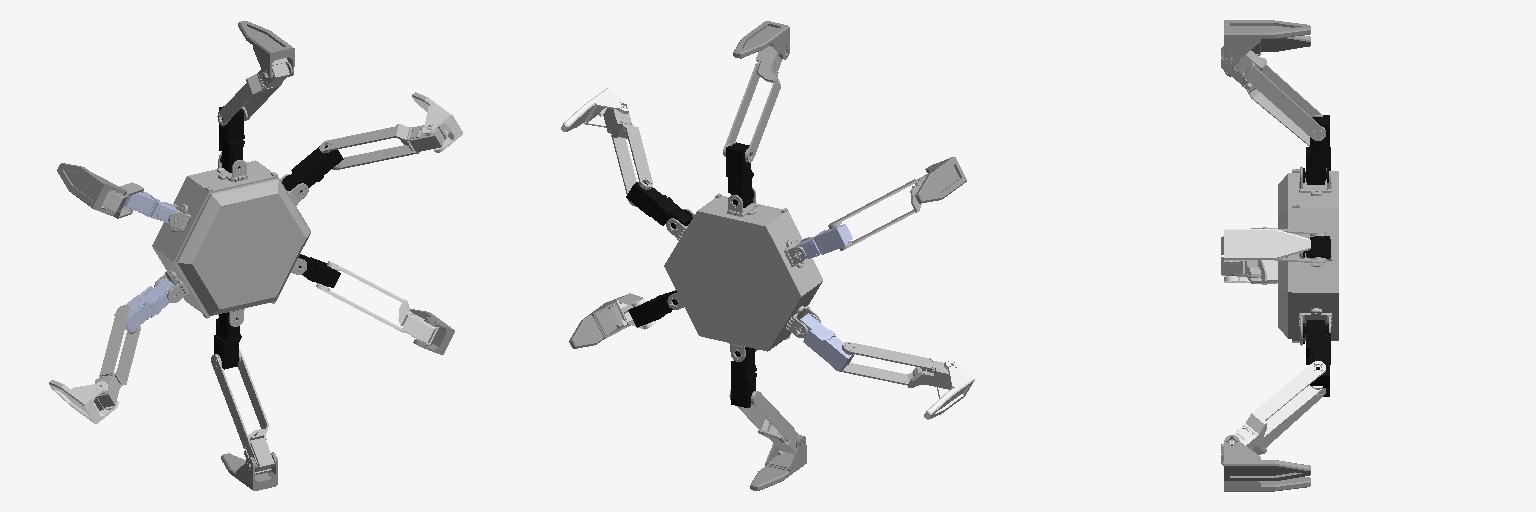
--- Render facts (derived) ---
The picture shows the robot from 3 angles, left to right: view 1: azimuth 30°, elevation 25°; view 2: azimuth 150°, elevation 25°; view 3: azimuth 270°, elevation 25°; orthographic projection.
Robot: hexapod_description — 19 links, 18 joints (18 revolute); root link base_link; default pose: all joints at 0.
Links seen in each view (by area): view 1: base_link, 5B_link, 1B_link, 2B_link, 4B_link, 3C_link, 6B_link, 4C_link, 2C_link, 5A_link, 2A_link, 1C_link (+7 smaller); view 2: base_link, 2B_link, 4B_link, 5B_link, 1B_link, 1C_link, 6C_link, 3C_link, 2A_link, 5A_link, 4C_link, 4A_link (+7 smaller); view 3: base_link, 6B_link, 4B_link, 5C_link, 6C_link, 4C_link, 4A_link, 6A_link, 3B_link, 1C_link, 2B_link, 1B_link (+1 smaller).
Link boxes in pixels (bbox=[...]): base_link: bbox=[152, 152, 310, 326]; 5B_link: bbox=[319, 124, 447, 169]; 1B_link: bbox=[211, 350, 274, 474]; 2B_link: bbox=[94, 305, 140, 410]; 4B_link: bbox=[217, 58, 289, 125]; 3C_link: bbox=[57, 163, 126, 216]; 6B_link: bbox=[316, 261, 439, 344]; 4C_link: bbox=[238, 21, 294, 81]; 2C_link: bbox=[49, 380, 118, 423]; 5A_link: bbox=[282, 145, 343, 192]; 2A_link: bbox=[114, 278, 175, 332]; 1C_link: bbox=[221, 452, 277, 490]; base_link: bbox=[664, 187, 822, 361]; 2B_link: bbox=[833, 342, 950, 389]; 4B_link: bbox=[723, 46, 785, 162]; 5B_link: bbox=[603, 106, 652, 206]; 1B_link: bbox=[729, 390, 799, 453]; 1C_link: bbox=[750, 435, 806, 490]; 6C_link: bbox=[569, 295, 630, 348]; 3C_link: bbox=[915, 157, 966, 203]; 2A_link: bbox=[797, 313, 854, 371]; 5A_link: bbox=[626, 182, 692, 228]; 4C_link: bbox=[733, 21, 789, 59]; 4A_link: bbox=[726, 142, 754, 207]; base_link: bbox=[1278, 166, 1338, 345]; 6B_link: bbox=[1221, 361, 1325, 455]; 4B_link: bbox=[1221, 46, 1325, 140]; 5C_link: bbox=[1224, 229, 1310, 261]; 6C_link: bbox=[1224, 435, 1310, 480]; 4C_link: bbox=[1224, 20, 1310, 65]; 4A_link: bbox=[1303, 115, 1330, 184]; 6A_link: bbox=[1303, 320, 1330, 387]; 3B_link: bbox=[1221, 58, 1309, 146]; 1C_link: bbox=[1224, 477, 1310, 491]; 2B_link: bbox=[1221, 257, 1277, 284]; 1B_link: bbox=[1221, 388, 1325, 465].
Bounding box of the posed robot: 0.6613 × 0.1652 × 0.725 m (x, y, z).
Meshes: 19 distinct files referenced, 19 mesh visuals loaded (19 binary STL).

robot.urdf — hexapod_description:
<?xml version="1.0" encoding="utf-8"?>
<!-- This URDF was automatically created by SolidWorks to URDF Exporter! Originally created by Stephen Brawner ([email redacted]) 
     Commit Version: 1.6.0-4-g7f85cfe  Build Version: 1.6.7995.38578
     For more information, please see http://wiki.ros.org/sw_urdf_exporter -->
<robot
  name="hexapod_description">
  <link
    name="base_link">
    <inertial>
      <origin
        xyz="-0.257411561544365 -1.02887073117159 -0.143644650111285"
        rpy="0 0 0" />
      <mass
        value="0.394164283837447" />
      <inertia
        ixx="0.00140146072401275"
        ixy="-3.22590645980393E-09"
        ixz="-9.08398049386088E-08"
        iyy="0.00260686785981137"
        iyz="4.90300888833374E-09"
        izz="0.00139631961979505" />
    </inertial>
    <visual>
      <origin
        xyz="0 0 0"
        rpy="0 0 0" />
      <geometry>
        <mesh
          filename="package://hexapod_description/meshes/base_link.STL" />
      </geometry>
      <material
        name="">
        <color
          rgba="0.749019607843137 0.749019607843137 0.749019607843137 1" />
      </material>
    </visual>
    <collision>
      <origin
        xyz="0 0 0"
        rpy="0 0 0" />
      <geometry>
        <mesh
          filename="package://hexapod_description/meshes/base_link.STL" />
      </geometry>
    </collision>
  </link>
  <link
    name="1A_link">
    <inertial>
      <origin
        xyz="0.028337480694777 0.00183431937361048 0.00171011164356782"
        rpy="0 0 0" />
      <mass
        value="0.0284343546565839" />
      <inertia
        ixx="3.40430537672247E-06"
        ixy="-2.51364666691777E-07"
        ixz="7.03831236602255E-07"
        iyy="9.48815427932301E-06"
        iyz="2.06447610692525E-08"
        izz="9.38157843537786E-06" />
    </inertial>
    <visual>
      <origin
        xyz="0 0 0"
        rpy="0 0 0" />
      <geometry>
        <mesh
          filename="package://hexapod_description/meshes/1A_link.STL" />
      </geometry>
      <material
        name="">
        <color
          rgba="0.109803921568627 0.109803921568627 0.109803921568627 1" />
      </material>
    </visual>
    <collision>
      <origin
        xyz="0 0 0"
        rpy="0 0 0" />
      <geometry>
        <mesh
          filename="package://hexapod_description/meshes/1A_link.STL" />
      </geometry>
    </collision>
  </link>
  <joint
    name="1A_joint"
    type="revolute">
    <origin
      xyz="-0.26054 -1.0121 -0.28139"
      rpy="-1.5708 1.4948 -3.1416" />
    <parent
      link="base_link" />
    <child
      link="1A_link" />
    <axis
      xyz="0 0 1" />
    <limit
      lower="0"
      upper="0"
      effort="0"
      velocity="0" />
  </joint>
  <link
    name="1B_link">
    <inertial>
      <origin
        xyz="-0.101462967839371 -0.00906854494073556 0.00616910983255009"
        rpy="0 0 0" />
      <mass
        value="0.0393326462004403" />
      <inertia
        ixx="6.09734251114647E-06"
        ixy="-9.65535643546754E-06"
        ixz="-7.14824373690788E-06"
        iyy="7.74003652664274E-05"
        iyz="-1.55226520662938E-06"
        izz="7.78927637257133E-05" />
    </inertial>
    <visual>
      <origin
        xyz="0 0 0"
        rpy="0 0 0" />
      <geometry>
        <mesh
          filename="package://hexapod_description/meshes/1B_link.STL" />
      </geometry>
      <material
        name="">
        <color
          rgba="0.749019607843137 0.749019607843137 0.749019607843137 1" />
      </material>
    </visual>
    <collision>
      <origin
        xyz="0 0 0"
        rpy="0 0 0" />
      <geometry>
        <mesh
          filename="package://hexapod_description/meshes/1B_link.STL" />
      </geometry>
    </collision>
  </link>
  <joint
    name="1B_joint"
    type="revolute">
    <origin
      xyz="0.06362 -0.00057714 0.005701"
      rpy="1.5708 0.84229 3.1325" />
    <parent
      link="1A_link" />
    <child
      link="1B_link" />
    <axis
      xyz="-0.044948 -0.050377 -0.99772" />
    <limit
      lower="0"
      upper="0"
      effort="0"
      velocity="0" />
  </joint>
  <link
    name="1C_link">
    <inertial>
      <origin
        xyz="-0.033090334089342 0.0336660368962824 -0.0302086703631166"
        rpy="0 0 0" />
      <mass
        value="0.0544820458081965" />
      <inertia
        ixx="1.27316084518699E-05"
        ixy="4.95111889607276E-07"
        ixz="2.74622413039355E-06"
        iyy="5.9349683529507E-05"
        iyz="-3.41222918684481E-07"
        izz="6.55767462467501E-05" />
    </inertial>
    <visual>
      <origin
        xyz="0 0 0"
        rpy="0 0 0" />
      <geometry>
        <mesh
          filename="package://hexapod_description/meshes/1C_link.STL" />
      </geometry>
      <material
        name="">
        <color
          rgba="0.647058823529412 0.647058823529412 0.647058823529412 1" />
      </material>
    </visual>
    <collision>
      <origin
        xyz="0 0 0"
        rpy="0 0 0" />
      <geometry>
        <mesh
          filename="package://hexapod_description/meshes/1C_link.STL" />
      </geometry>
    </collision>
  </link>
  <joint
    name="1C_joint"
    type="revolute">
    <origin
      xyz="-0.16408 -0.0084589 -0.027239"
      rpy="1.5708 0 2.2612" />
    <parent
      link="1B_link" />
    <child
      link="1C_link" />
    <axis
      xyz="-0.010218 -0.99772 -0.066736" />
    <limit
      lower="0"
      upper="0"
      effort="0"
      velocity="0" />
  </joint>
  <link
    name="2A_link">
    <inertial>
      <origin
        xyz="0.0283381331359435 0.0018000301279979 -0.0193897794249602"
        rpy="0 0 0" />
      <mass
        value="0.0284343550237236" />
      <inertia
        ixx="3.40412649548419E-06"
        ixy="-2.49256695541837E-07"
        ixz="7.03815223502087E-07"
        iyy="9.48832774725598E-06"
        iyz="2.03998763948826E-08"
        izz="9.38158391234098E-06" />
    </inertial>
    <visual>
      <origin
        xyz="0 0 0"
        rpy="0 0 0" />
      <geometry>
        <mesh
          filename="package://hexapod_description/meshes/2A_link.STL" />
      </geometry>
      <material
        name="">
        <color
          rgba="0.792156862745098 0.819607843137255 0.933333333333333 1" />
      </material>
    </visual>
    <collision>
      <origin
        xyz="0 0 0"
        rpy="0 0 0" />
      <geometry>
        <mesh
          filename="package://hexapod_description/meshes/2A_link.STL" />
      </geometry>
    </collision>
  </link>
  <joint
    name="2A_joint"
    type="revolute">
    <origin
      xyz="-0.37826 -1.0332 -0.20983"
      rpy="-1.5708 0.4478 -3.1416" />
    <parent
      link="base_link" />
    <child
      link="2A_link" />
    <axis
      xyz="0 0 1" />
    <limit
      lower="0"
      upper="0"
      effort="0"
      velocity="0" />
  </joint>
  <link
    name="2B_link">
    <inertial>
      <origin
        xyz="0.0971031270170688 0.0308474718829804 0.00609990630170254"
        rpy="0 0 0" />
      <mass
        value="0.0393326465544562" />
      <inertia
        ixx="1.35269679145865E-05"
        ixy="-2.38232906455588E-05"
        ixz="6.65936411377535E-06"
        iyy="6.99745889805511E-05"
        iyz="3.06959409199375E-06"
        izz="7.78889146752254E-05" />
    </inertial>
    <visual>
      <origin
        xyz="0 0 0"
        rpy="0 0 0" />
      <geometry>
        <mesh
          filename="package://hexapod_description/meshes/2B_link.STL" />
      </geometry>
      <material
        name="">
        <color
          rgba="0.749019607843137 0.749019607843137 0.749019607843137 1" />
      </material>
    </visual>
    <collision>
      <origin
        xyz="0 0 0"
        rpy="0 0 0" />
      <geometry>
        <mesh
          filename="package://hexapod_description/meshes/2B_link.STL" />
      </geometry>
    </collision>
  </link>
  <joint
    name="2B_joint"
    type="revolute">
    <origin
      xyz="0.063599 -0.00057839 -0.0154"
      rpy="-1.5708 -1.0606 -0.0090858" />
    <parent
      link="2A_link" />
    <child
      link="2B_link" />
    <axis
      xyz="0.032866 0.05873 -0.99773" />
    <limit
      lower="0"
      upper="0"
      effort="0"
      velocity="0" />
  </joint>
  <link
    name="2C_link">
    <inertial>
      <origin
        xyz="0.0376323974391738 0.00340615362496775 0.0820694920721581"
        rpy="0 0 0" />
      <mass
        value="0.0544820458081966" />
      <inertia
        ixx="6.09511692357023E-05"
        ixy="-4.51710949126228E-07"
        ixz="1.51853487638885E-05"
        iyy="5.9349517098051E-05"
        iyz="3.93365815399307E-07"
        izz="1.73573518943733E-05" />
    </inertial>
    <visual>
      <origin
        xyz="0 0 0"
        rpy="0 0 0" />
      <geometry>
        <mesh
          filename="package://hexapod_description/meshes/2C_link.STL" />
      </geometry>
      <material
        name="">
        <color
          rgba="0.956862745098039 0.956862745098039 0.956862745098039 1" />
      </material>
    </visual>
    <collision>
      <origin
        xyz="0 0 0"
        rpy="0 0 0" />
      <geometry>
        <mesh
          filename="package://hexapod_description/meshes/2C_link.STL" />
      </geometry>
    </collision>
  </link>
  <joint
    name="2C_joint"
    type="revolute">
    <origin
      xyz="0.1711 0 0.0097395"
      rpy="-1.5708 0 0.6562" />
    <parent
      link="2B_link" />
    <child
      link="2C_link" />
    <axis
      xyz="0.061878 0.99773 0.026483" />
    <limit
      lower="0"
      upper="0"
      effort="0"
      velocity="0" />
  </joint>
  <link
    name="3A_link">
    <inertial>
      <origin
        xyz="0.0282538248535282 0.00316522296964278 -0.0193896862723197"
        rpy="0 0 0" />
      <mass
        value="0.0284343550141747" />
      <inertia
        ixx="3.42805419316551E-06"
        ixy="-4.55153814030612E-07"
        ixz="7.02697330128222E-07"
        iyy="9.46439553188908E-06"
        iyz="4.42849901442824E-08"
        izz="9.38158843376235E-06" />
    </inertial>
    <visual>
      <origin
        xyz="0 0 0"
        rpy="0 0 0" />
      <geometry>
        <mesh
          filename="package://hexapod_description/meshes/3A_link.STL" />
      </geometry>
      <material
        name="">
        <color
          rgba="0.792156862745098 0.819607843137255 0.933333333333333 1" />
      </material>
    </visual>
    <collision>
      <origin
        xyz="0 0 0"
        rpy="0 0 0" />
      <geometry>
        <mesh
          filename="package://hexapod_description/meshes/3A_link.STL" />
      </geometry>
    </collision>
  </link>
  <joint
    name="3A_joint"
    type="revolute">
    <origin
      xyz="-0.37491 -1.0332 -0.071745"
      rpy="-1.5708 -0.6336 3.1416" />
    <parent
      link="base_link" />
    <child
      link="3A_link" />
    <axis
      xyz="0 0 1" />
    <limit
      lower="0"
      upper="0"
      effort="0"
      velocity="0" />
  </joint>
  <link
    name="3B_link">
    <inertial>
      <origin
        xyz="0.0936143571361396 0.0396549640963982 0.0112098698780352"
        rpy="0 0 0" />
      <mass
        value="0.0393326465589664" />
      <inertia
        ixx="1.83891005641566E-05"
        ixy="-2.89460406874963E-05"
        ixz="4.61544039926101E-06"
        iyy="6.47562952964613E-05"
        iyz="2.87772724012991E-06"
        izz="7.82450757103513E-05" />
    </inertial>
    <visual>
      <origin
        xyz="0 0 0"
        rpy="0 0 0" />
      <geometry>
        <mesh
          filename="package://hexapod_description/meshes/3B_link.STL" />
      </geometry>
      <material
        name="">
        <color
          rgba="0.749019607843137 0.749019607843137 0.749019607843137 1" />
      </material>
    </visual>
    <collision>
      <origin
        xyz="0 0 0"
        rpy="0 0 0" />
      <geometry>
        <mesh
          filename="package://hexapod_description/meshes/3B_link.STL" />
      </geometry>
    </collision>
  </link>
  <joint
    name="3B_joint"
    type="revolute">
    <origin
      xyz="0.063599 -0.0005902 -0.0154"
      rpy="-1.5708 -1.1557 -0.0092768" />
    <parent
      link="3A_link" />
    <child
      link="3B_link" />
    <axis
      xyz="0.040861 0.092713 -0.99485" />
    <limit
      lower="0"
      upper="0"
      effort="0"
      velocity="0" />
  </joint>
  <link
    name="3C_link">
    <inertial>
      <origin
        xyz="-0.09160332682956 0.0140314968158131 -0.0528777330076029"
        rpy="0 0 0" />
      <mass
        value="0.0544820458081965" />
      <inertia
        ixx="1.58527042919939E-05"
        ixy="5.18131990033039E-07"
        ixz="1.27453635434955E-05"
        iyy="5.9374034864698E-05"
        iyz="-6.77573003440911E-07"
        izz="6.24312990714349E-05" />
    </inertial>
    <visual>
      <origin
        xyz="0 0 0"
        rpy="0 0 0" />
      <geometry>
        <mesh
          filename="package://hexapod_description/meshes/3C_link.STL" />
      </geometry>
      <material
        name="">
        <color
          rgba="0.647058823529412 0.647058823529412 0.647058823529412 1" />
      </material>
    </visual>
    <collision>
      <origin
        xyz="0 0 0"
        rpy="0 0 0" />
      <geometry>
        <mesh
          filename="package://hexapod_description/meshes/3C_link.STL" />
      </geometry>
    </collision>
  </link>
  <joint
    name="3C_joint"
    type="revolute">
    <origin
      xyz="0.1711 0 0"
      rpy="1.5709 2.2069E-05 -0.76529" />
    <parent
      link="3B_link" />
    <child
      link="3C_link" />
    <axis
      xyz="-0.034736 -0.99486 -0.09511" />
    <limit
      lower="0"
      upper="0"
      effort="0"
      velocity="0" />
  </joint>
  <link
    name="4A_link">
    <inertial>
      <origin
        xyz="0.0281880312416113 -0.00389145795334184 0.00171029483127949"
        rpy="0 0 0" />
      <mass
        value="0.0284343546567147" />
      <inertia
        ixx="3.45592216647732E-06"
        ixy="6.12048855078028E-07"
        ixz="6.99616954238082E-07"
        iyy="9.4365284507043E-06"
        iyz="-7.92848103711781E-08"
        izz="9.3815874742664E-06" />
    </inertial>
    <visual>
      <origin
        xyz="0 0 0"
        rpy="0 0 0" />
      <geometry>
        <mesh
          filename="package://hexapod_description/meshes/4A_link.STL" />
      </geometry>
      <material
        name="">
        <color
          rgba="0.109803921568627 0.109803921568627 0.109803921568627 1" />
      </material>
    </visual>
    <collision>
      <origin
        xyz="0 0 0"
        rpy="0 0 0" />
      <geometry>
        <mesh
          filename="package://hexapod_description/meshes/4A_link.STL" />
      </geometry>
    </collision>
  </link>
  <joint
    name="4A_joint"
    type="revolute">
    <origin
      xyz="-0.25597 -1.0121 -0.0058865"
      rpy="-1.5708 -1.5048 3.1416" />
    <parent
      link="base_link" />
    <child
      link="4A_link" />
    <axis
      xyz="0 0 1" />
    <limit
      lower="0"
      upper="0"
      effort="0"
      velocity="0" />
  </joint>
  <link
    name="4B_link">
    <inertial>
      <origin
        xyz="0.0911481901559957 0.0444933752124946 -0.0151309223740669"
        rpy="0 0 0" />
      <mass
        value="0.0393326462005796" />
      <inertia
        ixx="2.2826193446913E-05"
        ixy="-2.95743773081822E-05"
        ixz="1.28830557812588E-05"
        iyy="6.31683752677569E-05"
        iyz="7.47287360622952E-06"
        izz="7.5395902788642E-05" />
    </inertial>
    <visual>
      <origin
        xyz="0 0 0"
        rpy="0 0 0" />
      <geometry>
        <mesh
          filename="package://hexapod_description/meshes/4B_link.STL" />
      </geometry>
      <material
        name="">
        <color
          rgba="0.749019607843137 0.749019607843137 0.749019607843137 1" />
      </material>
    </visual>
    <collision>
      <origin
        xyz="0 0 0"
        rpy="0 0 0" />
      <geometry>
        <mesh
          filename="package://hexapod_description/meshes/4B_link.STL" />
      </geometry>
    </collision>
  </link>
  <joint
    name="4B_joint"
    type="revolute">
    <origin
      xyz="0.063599 -0.00057697 0.0057002"
      rpy="-1.5708 -1.2114 -0.0090776" />
    <parent
      link="4A_link" />
    <child
      link="4B_link" />
    <axis
      xyz="-0.026184 -0.06968 -0.99723" />
    <limit
      lower="0"
      upper="0"
      effort="0"
      velocity="0" />
  </joint>
  <link
    name="4C_link">
    <inertial>
      <origin
        xyz="-0.112496651394289 -0.0256590108977424 -0.0189704763567466"
        rpy="0 0 0" />
      <mass
        value="0.0544820458081965" />
      <inertia
        ixx="3.07991024308703E-05"
        ixy="2.17187799064586E-07"
        ixz="2.52064047248141E-05"
        iyy="5.9393296469855E-05"
        iyz="5.65577831045906E-07"
        izz="4.74656393274014E-05" />
    </inertial>
    <visual>
      <origin
        xyz="0 0 0"
        rpy="0 0 0" />
      <geometry>
        <mesh
          filename="package://hexapod_description/meshes/4C_link.STL" />
      </geometry>
      <material
        name="">
        <color
          rgba="0.647058823529412 0.647058823529412 0.647058823529412 1" />
      </material>
    </visual>
    <collision>
      <origin
        xyz="0 0 0"
        rpy="0 0 0" />
      <geometry>
        <mesh
          filename="package://hexapod_description/meshes/4C_link.STL" />
      </geometry>
    </collision>
  </link>
  <joint
    name="4C_joint"
    type="revolute">
    <origin
      xyz="0.1711 0 0"
      rpy="1.5708 0 -1.0859" />
    <parent
      link="4B_link" />
    <child
      link="4C_link" />
    <axis
      xyz="0.049441 -0.99723 0.055647" />
    <limit
      lower="0"
      upper="0"
      effort="0"
      velocity="0" />
  </joint>
  <link
    name="5A_link">
    <inertial>
      <origin
        xyz="0.0282580179373623 0.00313063838179124 0.00171019196417599"
        rpy="0 0 0" />
      <mass
        value="0.0284343550237688" />
      <inertia
        ixx="3.42683400448859E-06"
        ixy="-4.46944773395633E-07"
        ixz="7.02783691970914E-07"
        iyy="9.46562213768633E-06"
        iyz="4.33317436634643E-08"
        izz="9.3815820128967E-06" />
    </inertial>
    <visual>
      <origin
        xyz="0 0 0"
        rpy="0 0 0" />
      <geometry>
        <mesh
          filename="package://hexapod_description/meshes/5A_link.STL" />
      </geometry>
      <material
        name="">
        <color
          rgba="0.109803921568627 0.109803921568627 0.109803921568627 1" />
      </material>
    </visual>
    <collision>
      <origin
        xyz="0 0 0"
        rpy="0 0 0" />
      <geometry>
        <mesh
          filename="package://hexapod_description/meshes/5A_link.STL" />
      </geometry>
    </collision>
  </link>
  <joint
    name="5A_joint"
    type="revolute">
    <origin
      xyz="-0.13639 -1.0121 -0.077838"
      rpy="1.5708 -0.41482 0" />
    <parent
      link="base_link" />
    <child
      link="5A_link" />
    <axis
      xyz="0 0 1" />
    <limit
      lower="0"
      upper="0"
      effort="0"
      velocity="0" />
  </joint>
  <link
    name="5B_link">
    <inertial>
      <origin
        xyz="0.0892374817707428 0.0487393073598649 0.0109909793687738"
        rpy="0 0 0" />
      <mass
        value="0.0393326465544563" />
      <inertia
        ixx="2.45467617907383E-05"
        ixy="-3.29358369976306E-05"
        ixz="4.3857959217229E-06"
        iyy="5.86132947174211E-05"
        iyz="3.36701812722541E-06"
        izz="7.82304150622033E-05" />
    </inertial>
    <visual>
      <origin
        xyz="0 0 0"
        rpy="0 0 0" />
      <geometry>
        <mesh
          filename="package://hexapod_description/meshes/5B_link.STL" />
      </geometry>
      <material
        name="">
        <color
          rgba="0.749019607843137 0.749019607843137 0.749019607843137 1" />
      </material>
    </visual>
    <collision>
      <origin
        xyz="0 0 0"
        rpy="0 0 0" />
      <geometry>
        <mesh
          filename="package://hexapod_description/meshes/5B_link.STL" />
      </geometry>
    </collision>
  </link>
  <joint
    name="5B_joint"
    type="revolute">
    <origin
      xyz="0.063599 -0.0005739 0.0056999"
      rpy="-1.5708 -1.2548 -0.0090355" />
    <parent
      link="5A_link" />
    <child
      link="5B_link" />
    <axis
      xyz="0.030965 0.09471 -0.99502" />
    <limit
      lower="0"
      upper="0"
      effort="0"
      velocity="0" />
  </joint>
  <link
    name="5C_link">
    <inertial>
      <origin
        xyz="-0.0513402538989693 0.0409281181364052 -0.110593086757728"
        rpy="0 0 0" />
      <mass
        value="0.0544820458081965" />
      <inertia
        ixx="1.77446848448203E-05"
        ixy="7.90820634312053E-07"
        ixz="-1.57165264072064E-05"
        iyy="5.93725863273496E-05"
        iyz="-2.85960205515756E-07"
        izz="6.05407670559564E-05" />
    </inertial>
    <visual>
      <origin
        xyz="0 0 0"
        rpy="0 0 0" />
      <geometry>
        <mesh
          filename="package://hexapod_description/meshes/5C_link.STL" />
      </geometry>
      <material
        name="">
        <color
          rgba="0.956862745098039 0.956862745098039 0.956862745098039 1" />
      </material>
    </visual>
    <collision>
      <origin
        xyz="0 0 0"
        rpy="0 0 0" />
      <geometry>
        <mesh
          filename="package://hexapod_description/meshes/5C_link.STL" />
      </geometry>
    </collision>
  </link>
  <joint
    name="5C_joint"
    type="revolute">
    <origin
      xyz="0.17108 0 -0.027233"
      rpy="1.5708 0 -0.099064" />
    <parent
      link="5B_link" />
    <child
      link="5C_link" />
    <axis
      xyz="0.021437 -0.99503 -0.097267" />
    <limit
      lower="0"
      upper="0"
      effort="0"
      velocity="0" />
  </joint>
  <link
    name="6A_link">
    <inertial>
      <origin
        xyz="0.0284226485117335 0.000270233924949292 0.00183538097241298"
        rpy="0 0 0" />
      <mass
        value="0.0284343550141806" />
      <inertia
        ixx="3.39223910985817E-06"
        ixy="1.25105674475861E-07"
        ixz="6.85392164279042E-07"
        iyy="9.49657231547242E-06"
        iyz="-2.0961908803737E-08"
        izz="9.38522673348674E-06" />
    </inertial>
    <visual>
      <origin
        xyz="0 0 0"
        rpy="0 0 0" />
      <geometry>
        <mesh
          filename="package://hexapod_description/meshes/6A_link.STL" />
      </geometry>
      <material
        name="">
        <color
          rgba="0.109803921568627 0.109803921568627 0.109803921568627 1" />
      </material>
    </visual>
    <collision>
      <origin
        xyz="0 0 0"
        rpy="0 0 0" />
      <geometry>
        <mesh
          filename="package://hexapod_description/meshes/6A_link.STL" />
      </geometry>
    </collision>
  </link>
  <joint
    name="6A_joint"
    type="revolute">
    <origin
      xyz="-0.13991 -1.0121 -0.21555"
      rpy="1.5332 0.53367 0.0046181" />
    <parent
      link="base_link" />
    <child
      link="6A_link" />
    <axis
      xyz="-0.0039721 -0.039957 0.99919" />
    <limit
      lower="0"
      upper="0"
      effort="0"
      velocity="0" />
  </joint>
  <link
    name="6B_link">
    <inertial>
      <origin
        xyz="-0.0832092081495234 0.00531626253723547 0.0584006909530674"
        rpy="0 0 0" />
      <mass
        value="0.039332646558968" />
      <inertia
        ixx="2.57479523094507E-05"
        ixy="4.92814729682821E-06"
        ixz="3.35343168875644E-05"
        iyy="7.82369288311689E-05"
        iyz="-2.4178958569123E-06"
        izz="5.74055904303493E-05" />
    </inertial>
    <visual>
      <origin
        xyz="0 0 0"
        rpy="0 0 0" />
      <geometry>
        <mesh
          filename="package://hexapod_description/meshes/6B_link.STL" />
      </geometry>
      <material
        name="">
        <color
          rgba="0.956862745098039 0.956862745098039 0.956862745098039 1" />
      </material>
    </visual>
    <collision>
      <origin
        xyz="0 0 0"
        rpy="0 0 0" />
      <geometry>
        <mesh
          filename="package://hexapod_description/meshes/6B_link.STL" />
      </geometry>
    </collision>
  </link>
  <joint
    name="6B_joint"
    type="revolute">
    <origin
      xyz="0.065 0.0092003 0.0063321"
      rpy="-0.040574 0.14262 3.0276" />
    <parent
      link="6A_link" />
    <child
      link="6B_link" />
    <axis
      xyz="-0.099515 0.99493 -0.01434" />
    <limit
      lower="0"
      upper="0"
      effort="0"
      velocity="0" />
  </joint>
  <link
    name="6C_link">
    <inertial>
      <origin
        xyz="-0.146473692991715 0.0410965070890031 -0.110306621075706"
        rpy="0 0 0" />
      <mass
        value="0.0544820458081965" />
      <inertia
        ixx="2.16939107020027E-05"
        ixy="3.89752632243726E-07"
        ixz="2.00103134344133E-05"
        iyy="5.9373271572785E-05"
        iyz="-7.51615181225645E-07"
        izz="5.65908559533387E-05" />
    </inertial>
    <visual>
      <origin
        xyz="0 0 0"
        rpy="0 0 0" />
      <geometry>
        <mesh
          filename="package://hexapod_description/meshes/6C_link.STL" />
      </geometry>
      <material
        name="">
        <color
          rgba="0.647058823529412 0.647058823529412 0.647058823529412 1" />
      </material>
    </visual>
    <collision>
      <origin
        xyz="0 0 0"
        rpy="0 0 0" />
      <geometry>
        <mesh
          filename="package://hexapod_description/meshes/6C_link.STL" />
      </geometry>
    </collision>
  </link>
  <joint
    name="6C_joint"
    type="revolute">
    <origin
      xyz="-0.00409101222826194 0.0436501939489914 0.16090715153179"
      rpy="3.14158945955694 -1.1872473110289 0" />
    <parent
      link="6B_link" />
    <child
      link="6C_link" />
    <axis
      xyz="-0.0505372205434824 -0.99493270384841 -0.0869189516309928" />
    <limit
      lower="0"
      upper="0"
      effort="0"
      velocity="0" />
  </joint>
</robot>
